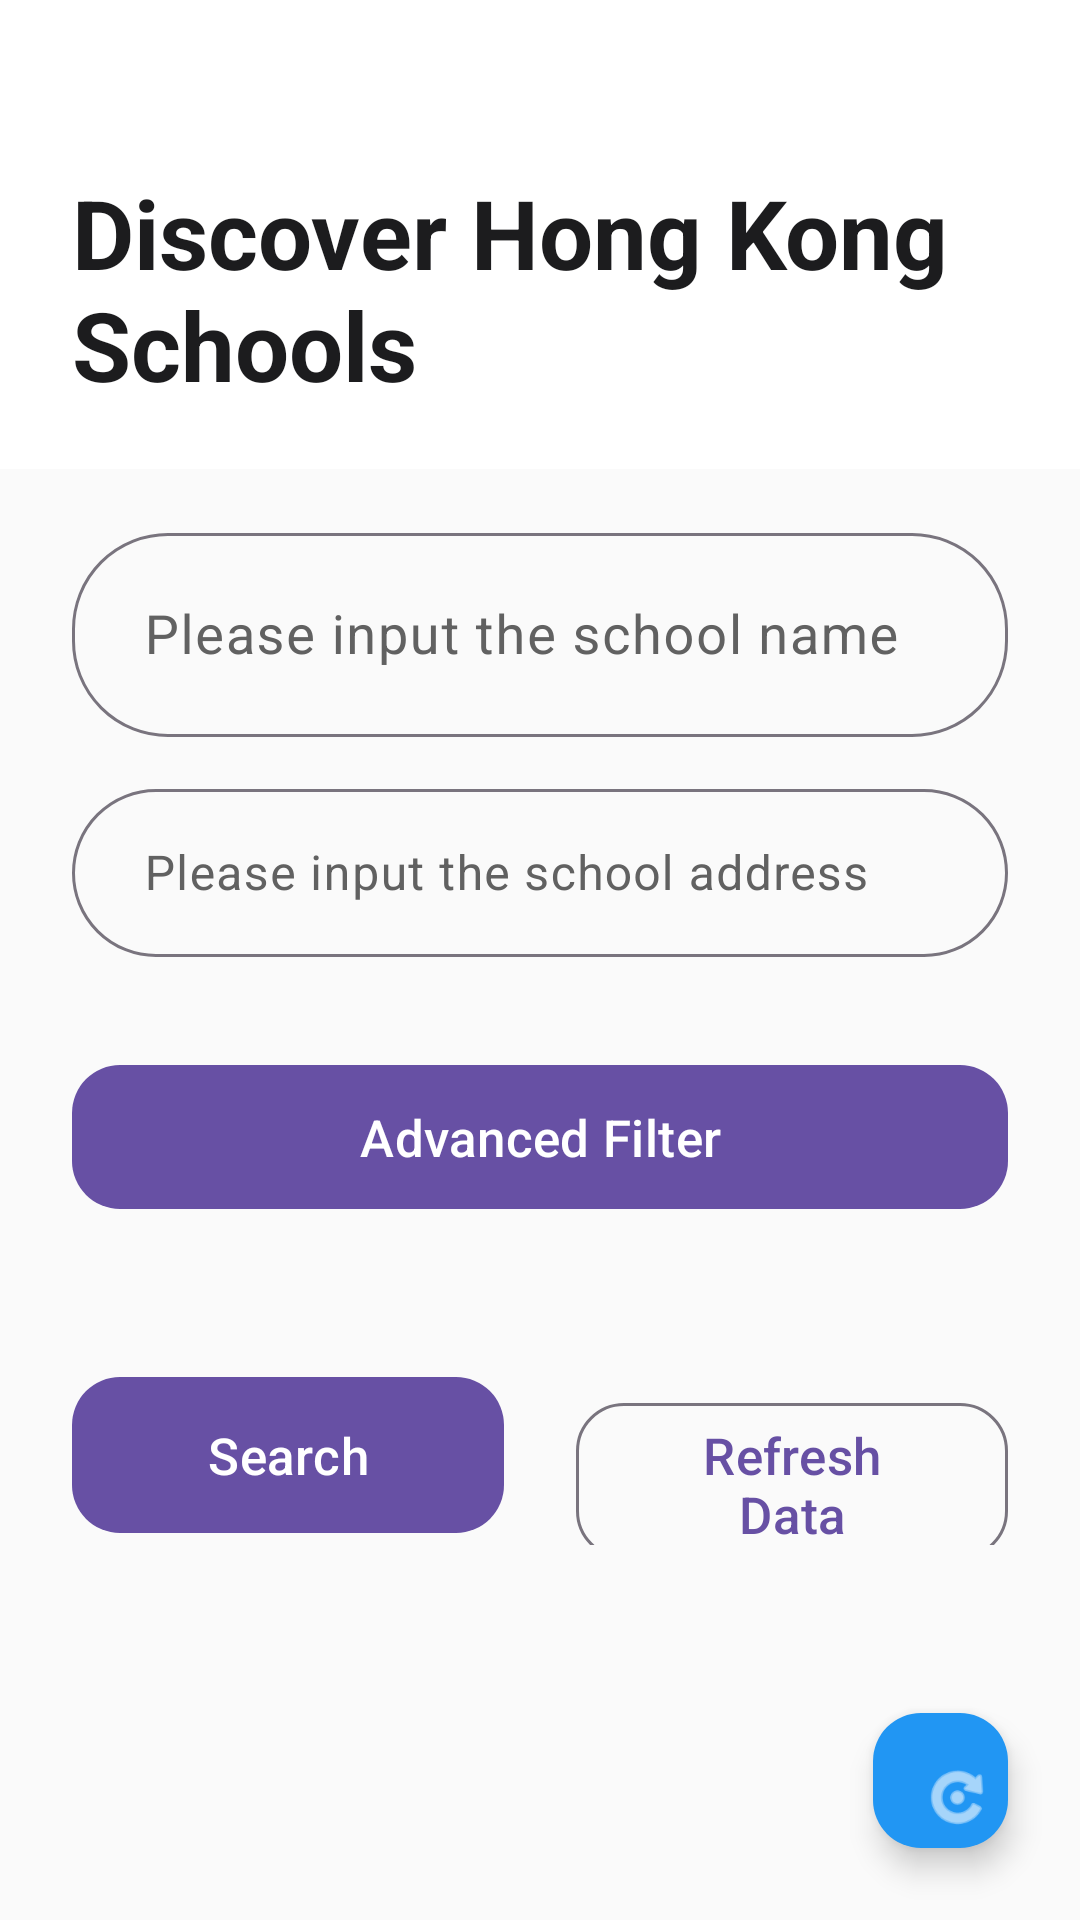

Icons on this 1080 x 1920 Android screen, each with its box as (x1, y1, x2, y2):
rotate: (873, 1713, 1008, 1848)
